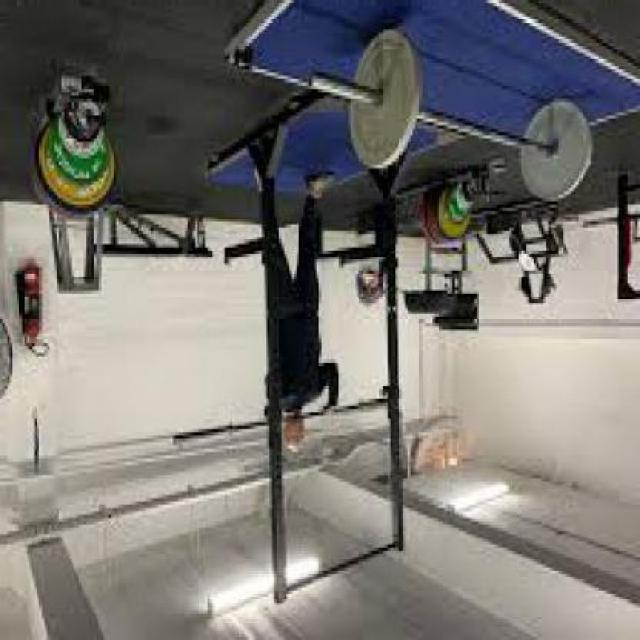Barbell: (306, 70, 319, 90)
